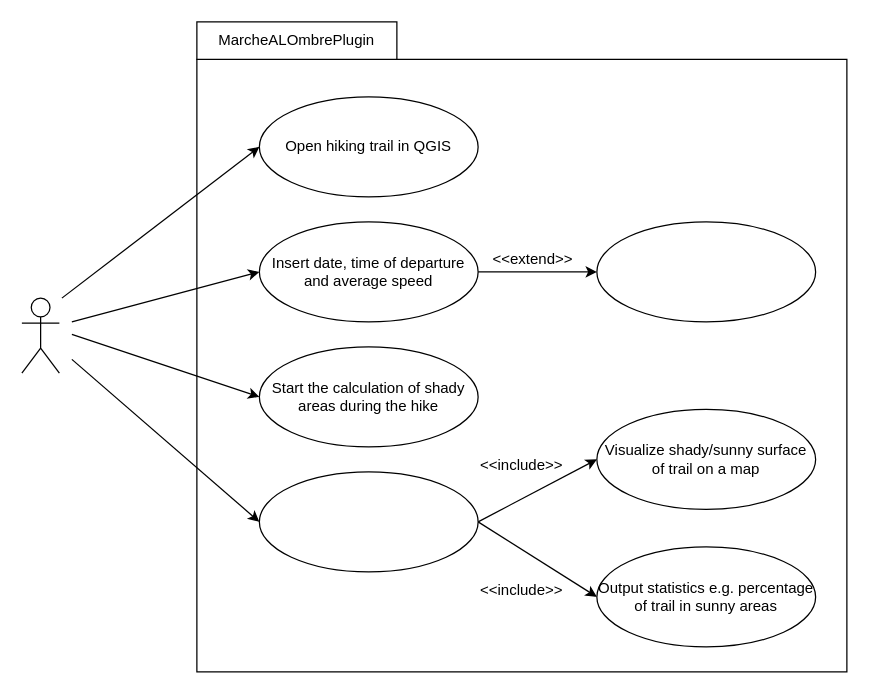
Image size: 869x694. Some labels were removed from this diagram. The box of each missing label's shape, as (x1, y1, x2, y2) in pixels:
Get the result: (258, 471, 478, 572)
Insert point of pause: (596, 221, 816, 322)
User: (21, 297, 59, 373)
